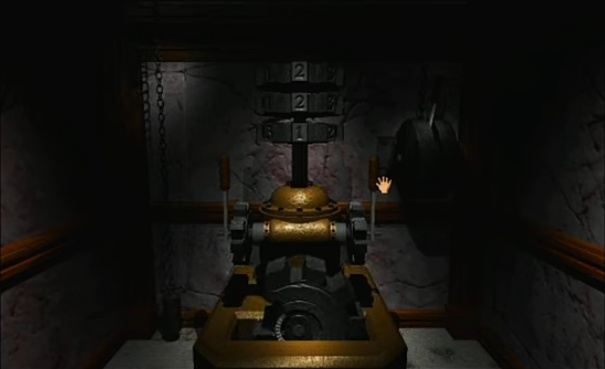Pointer: (372, 172, 396, 196)
